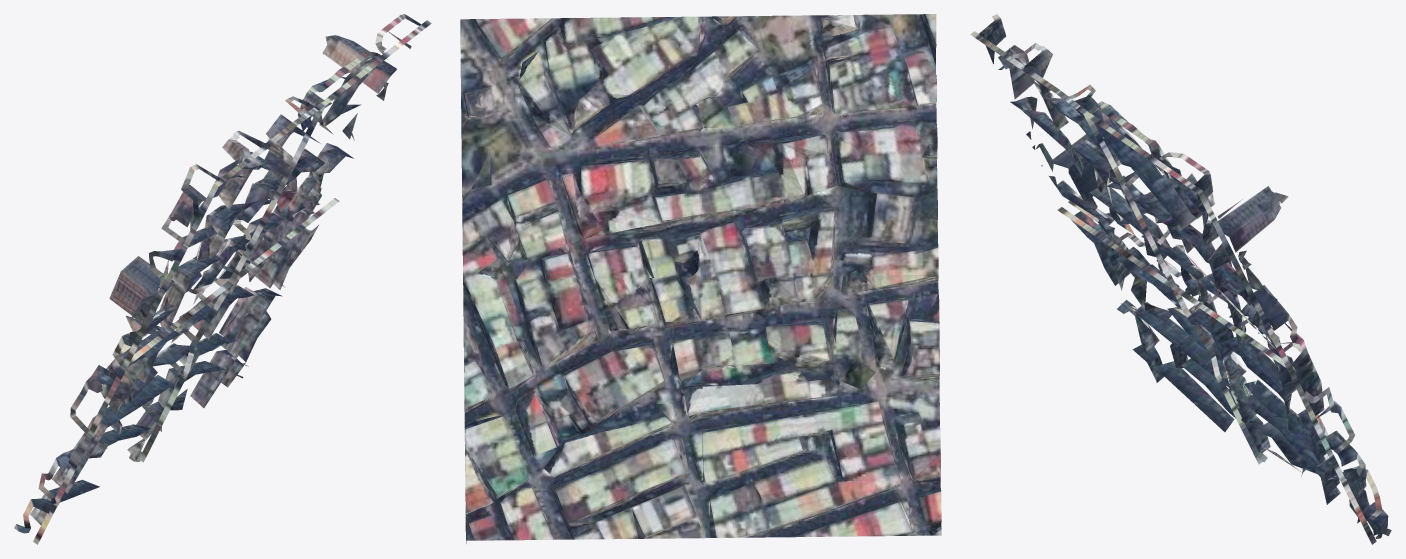
3 renders of one model, left to right at view 1: azimuth 30°, elevation 25°; view 2: azimuth 150°, elevation 25°; view 3: azimuth 270°, elevation 25°, orthographic. The views are drawn at different scales.
Size of the model in its own units: 313 by 286 by 266.
1 material, 1 textured.
